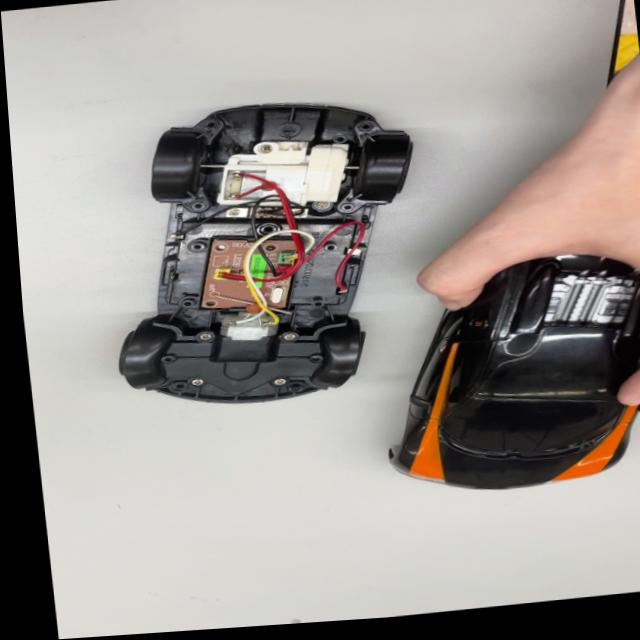Chassis: (87, 93, 434, 421)
vehicle_body: (365, 216, 640, 505)
